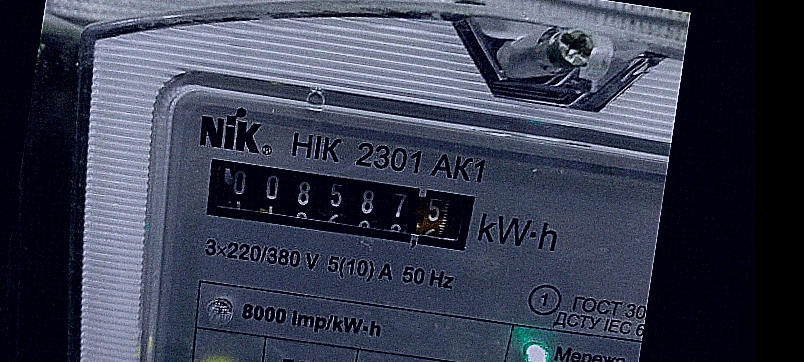0: (228, 165, 249, 196), (262, 171, 283, 201)
5: (424, 194, 445, 225), (325, 179, 346, 209)
7: (388, 187, 409, 220)
8: (356, 184, 378, 216), (293, 176, 313, 206)
screen: (183, 139, 494, 266)
